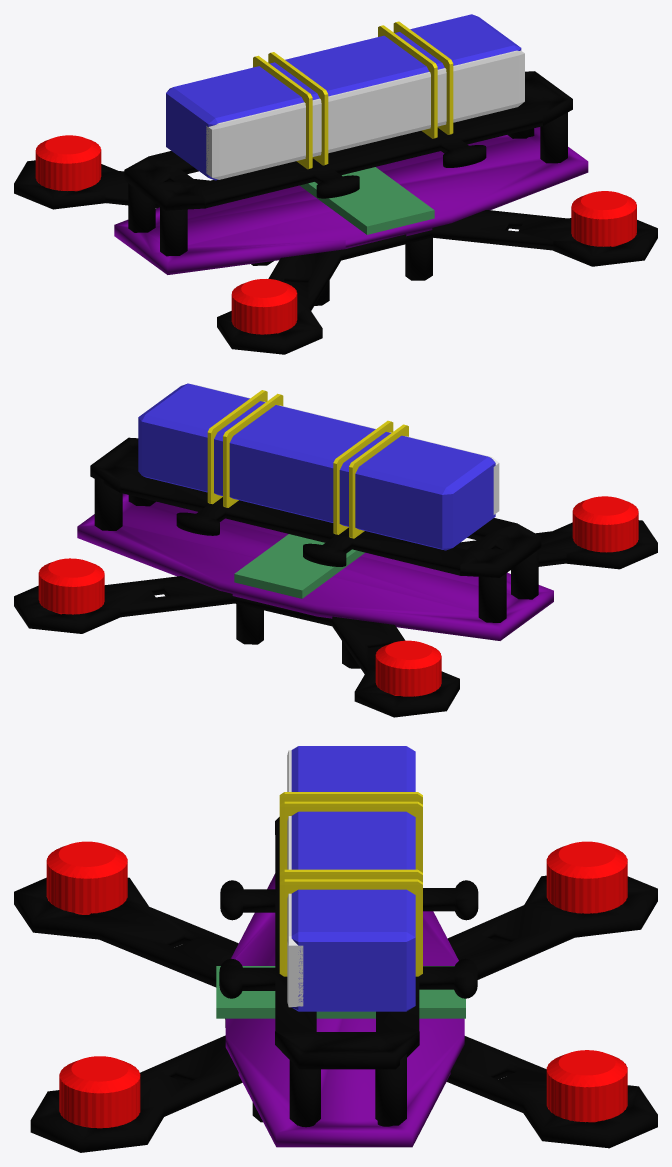
File: diyquad.dae
3 views of the same model, one above another, from view 1: azimuth 30°, elevation 25°; view 2: azimuth 150°, elevation 25°; view 3: azimuth 270°, elevation 25° (orthographic). The views are drawn at different scales.
Parts seen in each view (by area): view 1: Combo Board, Cube.007, Cube.001, frame_bottom, Carbon Fiber Frame Top Longer, Cube, Cylinder.004, Cylinder.001, Cylinder.003, Leg.005, Cube.002, Cube.005 (+5 smaller); view 2: Cube.001, Combo Board, frame_bottom, Carbon Fiber Frame Top Longer, Cube, Cylinder.002, Cylinder.001, Cylinder.004, Leg.004, Leg.007, Cube.002, Cube.005 (+5 smaller); view 3: frame_bottom, Cube.001, Combo Board, Carbon Fiber Frame Top Longer, Cylinder.001, Cylinder.004, Cylinder.002, Cylinder.003, Cube, Cube.002, Cube.005, Leg.007 (+4 smaller).
Part boxes in pixels (x1,y1,x2,y2): Combo Board: (114, 127, 588, 274); Cube.007: (206, 50, 524, 179); Cube.001: (166, 14, 521, 180); frame_bottom: (14, 160, 657, 354); Carbon Fiber Frame Top Longer: (124, 71, 572, 210); Cube: (299, 167, 434, 234); Cylinder.004: (35, 135, 101, 191); Cylinder.001: (231, 279, 297, 334); Cylinder.003: (571, 191, 636, 246); Leg.005: (160, 207, 187, 256); Cube.002: (393, 21, 453, 134); Cube.005: (268, 52, 328, 165); Cube.001: (138, 383, 495, 550); Combo Board: (77, 493, 553, 640); frame_bottom: (14, 520, 657, 717); Carbon Fiber Frame Top Longer: (90, 437, 541, 577); Cube: (234, 534, 364, 598); Cylinder.002: (38, 558, 104, 614); Cylinder.001: (572, 496, 638, 552); Cylinder.004: (375, 640, 441, 696); Leg.004: (478, 573, 506, 622); Leg.007: (94, 476, 122, 530); Cube.002: (207, 390, 267, 504); Cube.005: (333, 420, 393, 534); frame_bottom: (14, 875, 657, 1152); Cube.001: (291, 746, 415, 1011); Combo Board: (225, 873, 464, 1147); Carbon Fiber Frame Top Longer: (219, 817, 478, 1069); Cylinder.001: (46, 841, 127, 914); Cylinder.004: (546, 841, 627, 913); Cylinder.002: (546, 1050, 627, 1122); Cylinder.003: (59, 1056, 140, 1128); Cube: (216, 966, 465, 1018); Cube.002: (279, 879, 422, 976); Cube.005: (279, 801, 422, 872); Leg.007: (375, 1054, 406, 1126).
Bounding box in the file's own units: 0.0829 × 0.0816 × 0.0361.
